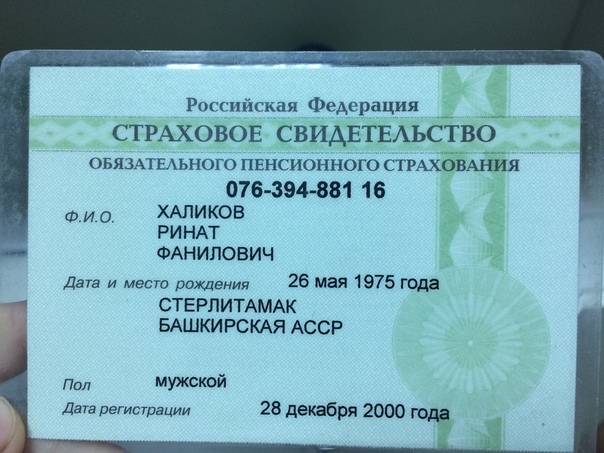text: (151, 293, 352, 338), (258, 396, 458, 425), (223, 175, 395, 202), (284, 271, 443, 292), (152, 243, 278, 264), (149, 200, 250, 222), (152, 373, 233, 392), (145, 222, 223, 241)
